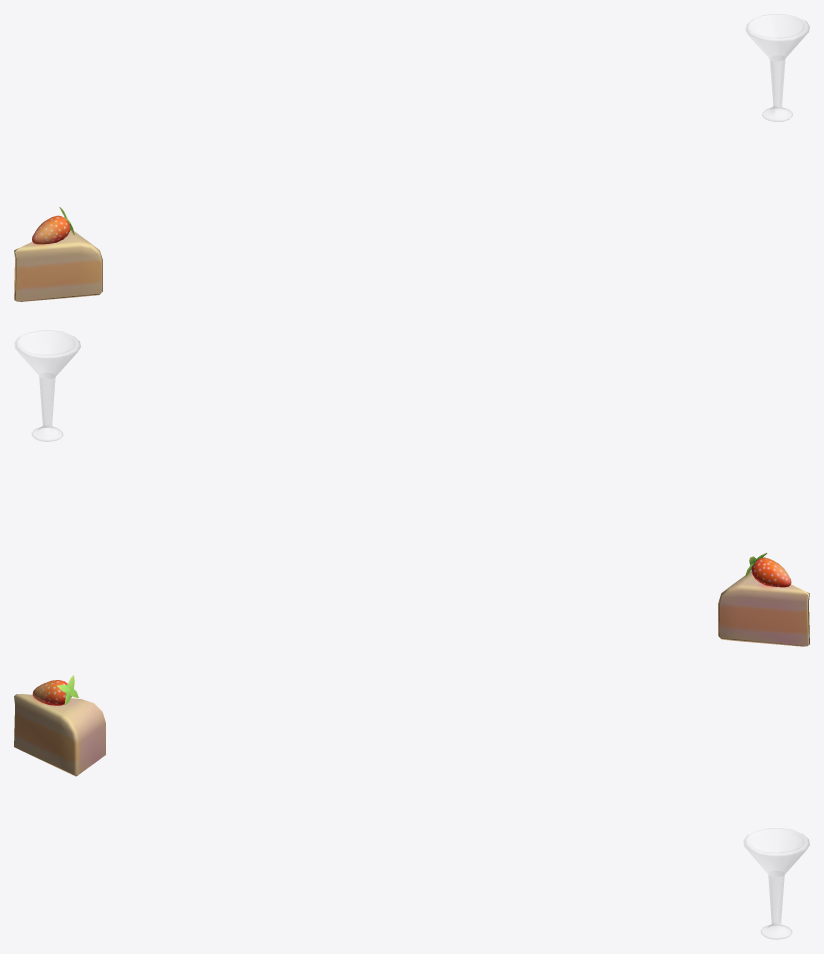
File: cake.fbx
3 renders of one model, top to bottom at view 1: azimuth 30°, elevation 25°; view 2: azimuth 150°, elevation 25°; view 3: azimuth 330°, elevation 25°, orthographic. The views are drawn at different scales.
Parts seen in each view (by area): view 1: Cake, Coctail_3; view 2: Cake, Coctail_3; view 3: Cake, Coctail_3.
Boxes of the visible parts, x1,y1,x2,y2 form: Cake: (14,207,102,301); Coctail_3: (745,14,809,121); Cake: (718,553,809,646); Coctail_3: (14,330,80,441); Cake: (14,675,105,776); Coctail_3: (743,828,809,939).
Bounding box in the file's own units: 1480 × 188 × 144.
Materials: 2 (1 with a texture image).
